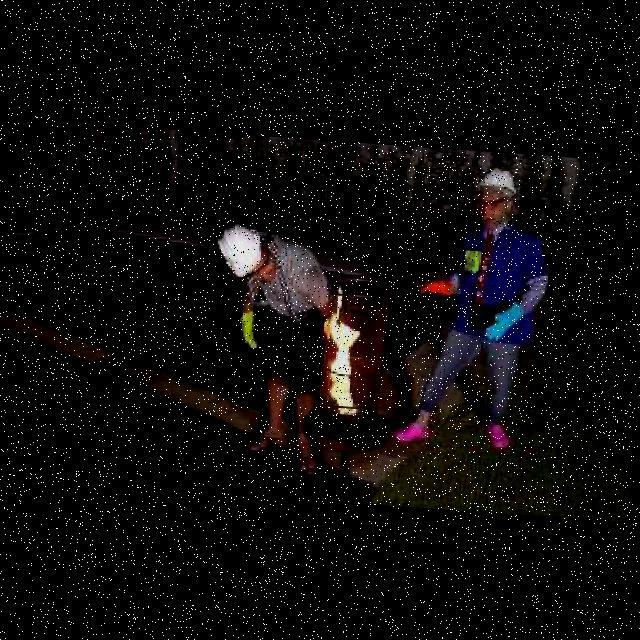Fire: (322, 293, 368, 411)
